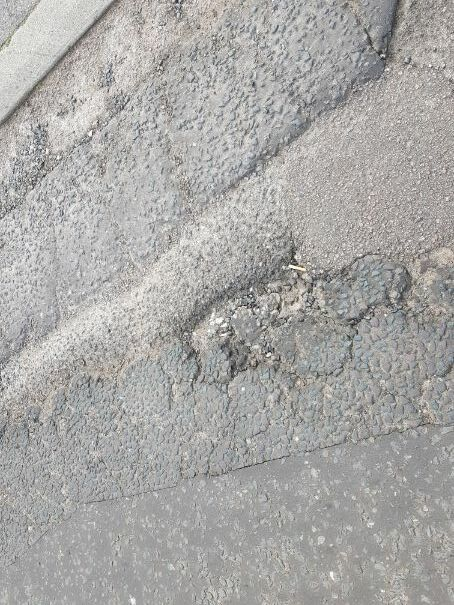pothole: (180, 248, 391, 396), (354, 0, 454, 120)
